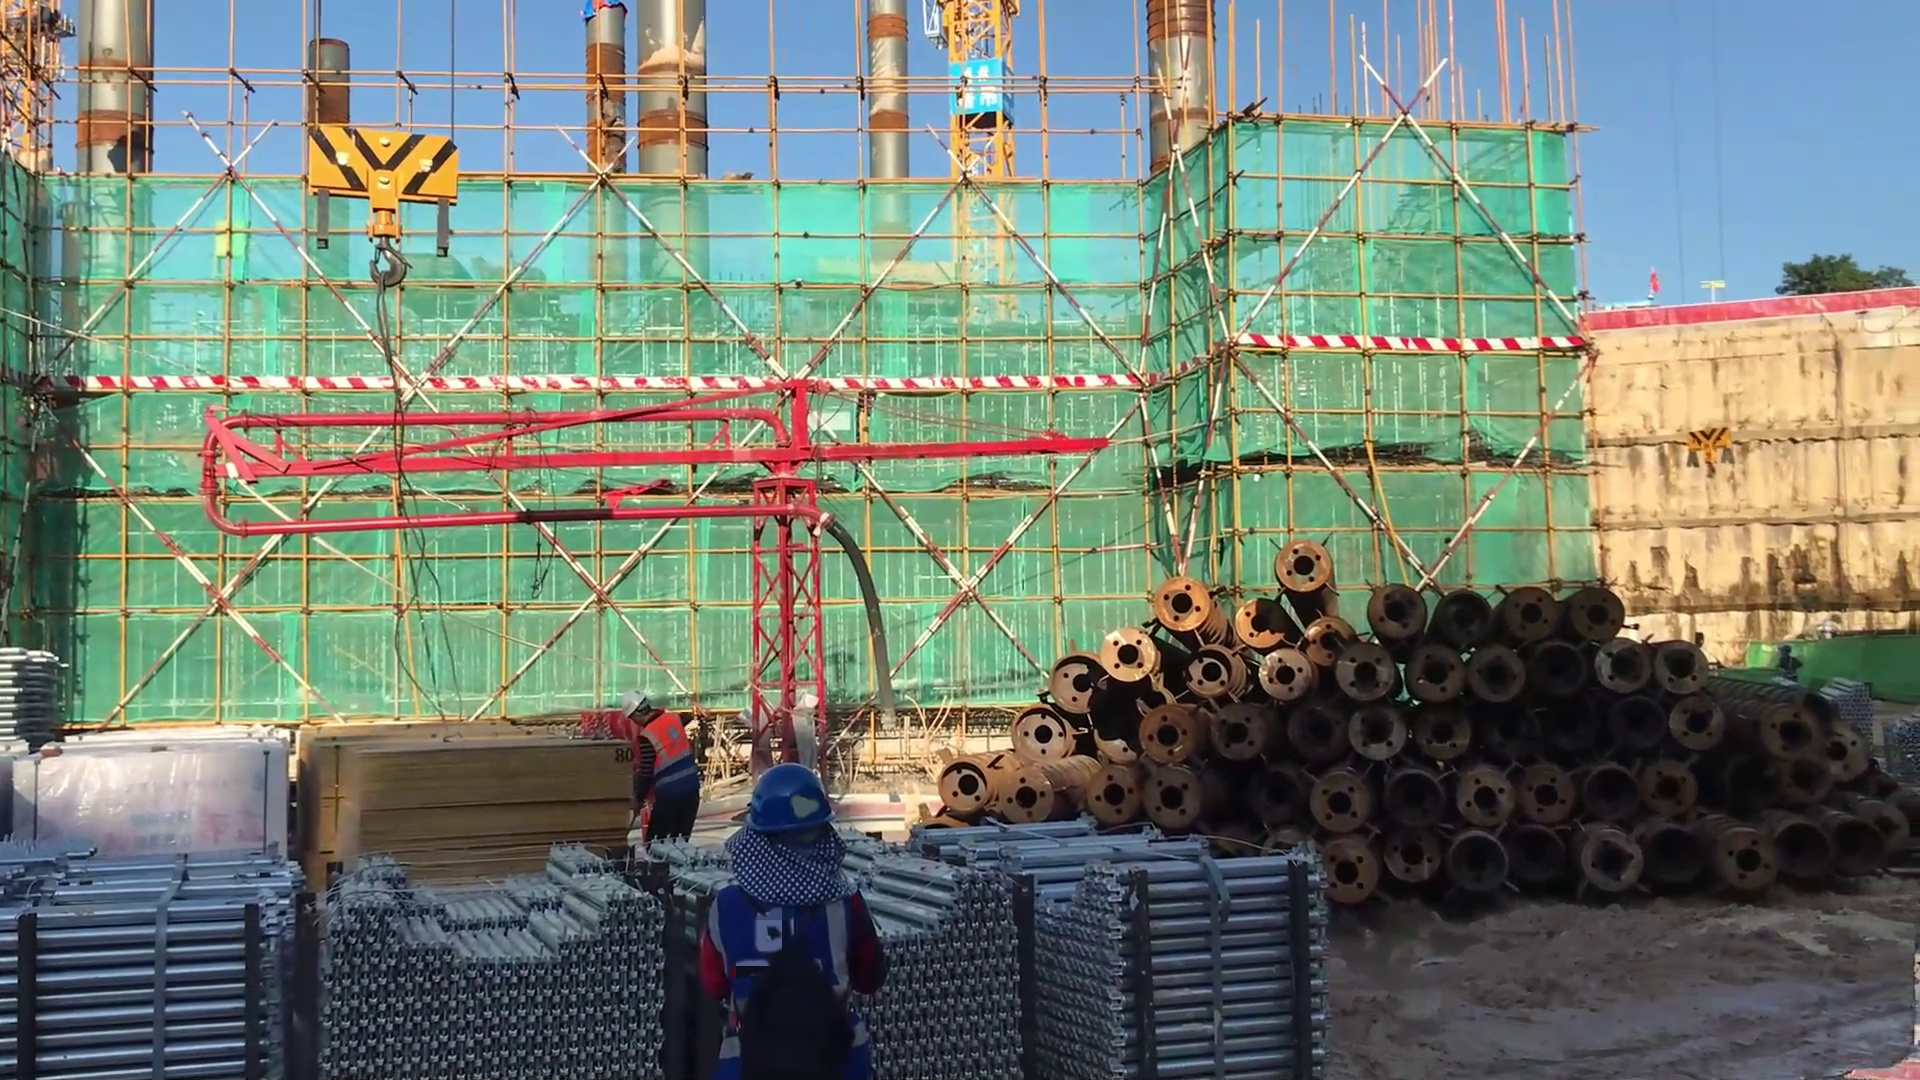board: (297, 724, 640, 891)
fence: (1581, 289, 1920, 342)
helmet: (749, 759, 832, 833), (618, 686, 649, 720)
hook: (291, 117, 472, 314)
person: (692, 761, 903, 1078), (619, 690, 711, 865), (585, 74, 630, 186)
scaffold: (862, 807, 1350, 1078), (323, 853, 681, 1080), (1, 857, 304, 1060), (1, 645, 83, 748)
slogan: (959, 55, 1006, 117)
vest: (705, 884, 872, 1053), (637, 706, 700, 801)
